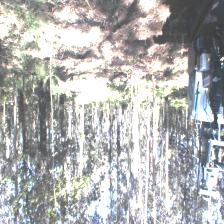trunktrack_idkeyframe: (38, 95, 48, 141), (164, 97, 169, 147)
